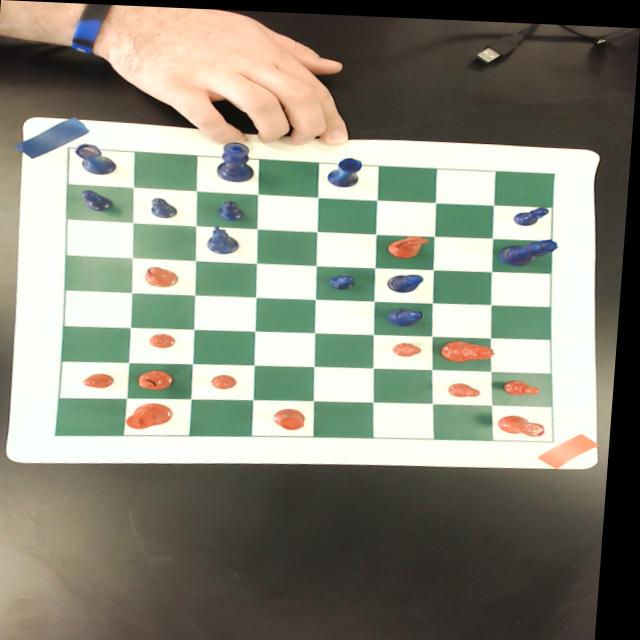B: (389, 269, 427, 290), (390, 304, 427, 323)
K: (216, 140, 258, 181)
N: (208, 221, 245, 253)
P: (81, 188, 117, 211), (514, 201, 551, 222), (151, 195, 183, 218), (218, 198, 248, 219), (330, 270, 360, 289)
Q: (501, 232, 563, 262)
R: (75, 142, 120, 174), (328, 154, 365, 185)
b: (142, 368, 179, 390), (148, 265, 183, 287)
k: (131, 401, 178, 430)
n: (389, 230, 433, 256)
p: (506, 374, 547, 392), (86, 371, 121, 388), (453, 378, 487, 394), (396, 338, 427, 354), (215, 371, 242, 388), (154, 332, 181, 347)
q: (444, 336, 499, 360)
r: (501, 409, 553, 432), (276, 405, 312, 429)
